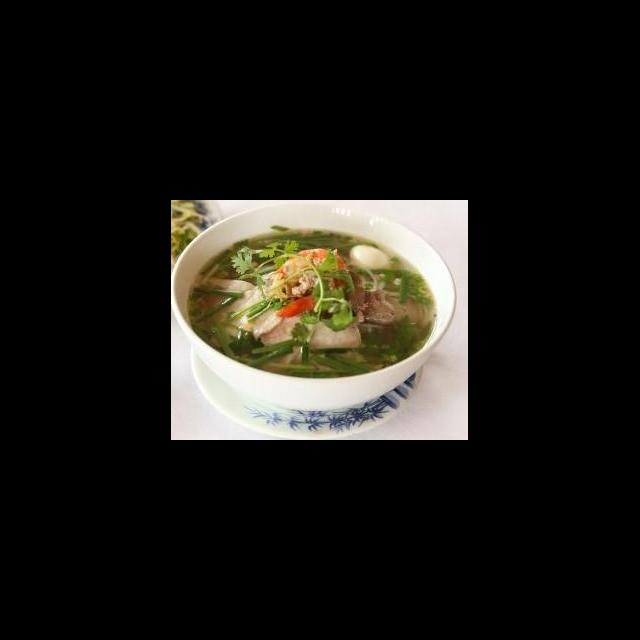thit heo: (196, 272, 286, 352), (252, 303, 370, 357)
tom: (262, 245, 352, 322)
trung: (346, 242, 394, 277)
